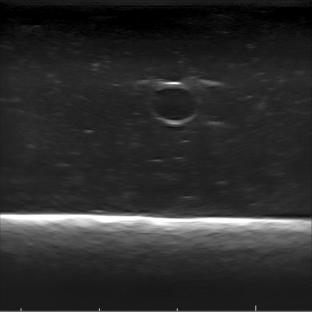vessel: (148, 80, 198, 126)
